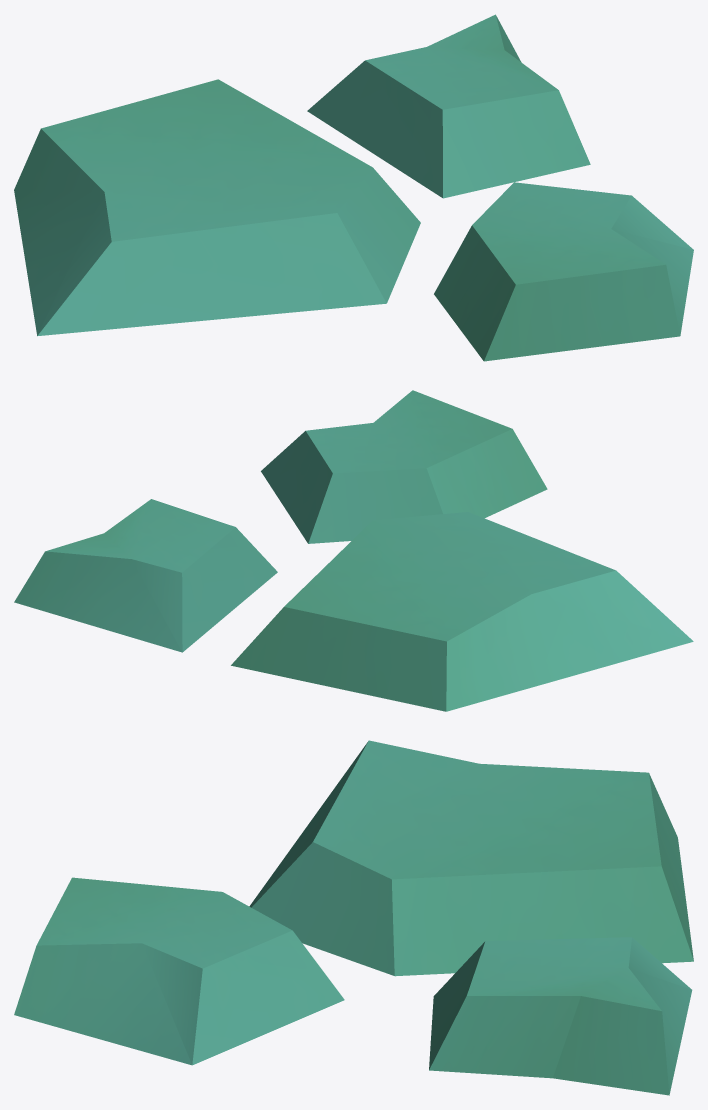
The model's file is flat_rock_lush.FBX.
3 renders of one model, top to bottom at view 1: azimuth 30°, elevation 25°; view 2: azimuth 150°, elevation 25°; view 3: azimuth 270°, elevation 25°, orthographic. The views are drawn at different scales.
Parts seen in each view (by area): view 1: lush_flat_rockb; view 2: lush_flat_rockb; view 3: lush_flat_rockb.
Part boxes in pixels (x1,y1,x2,y2): lush_flat_rockb: (14, 14, 693, 361); lush_flat_rockb: (14, 390, 693, 711); lush_flat_rockb: (14, 740, 693, 1095).
Size of the model in its own units: 3.6 by 0.3685 by 3.17.
